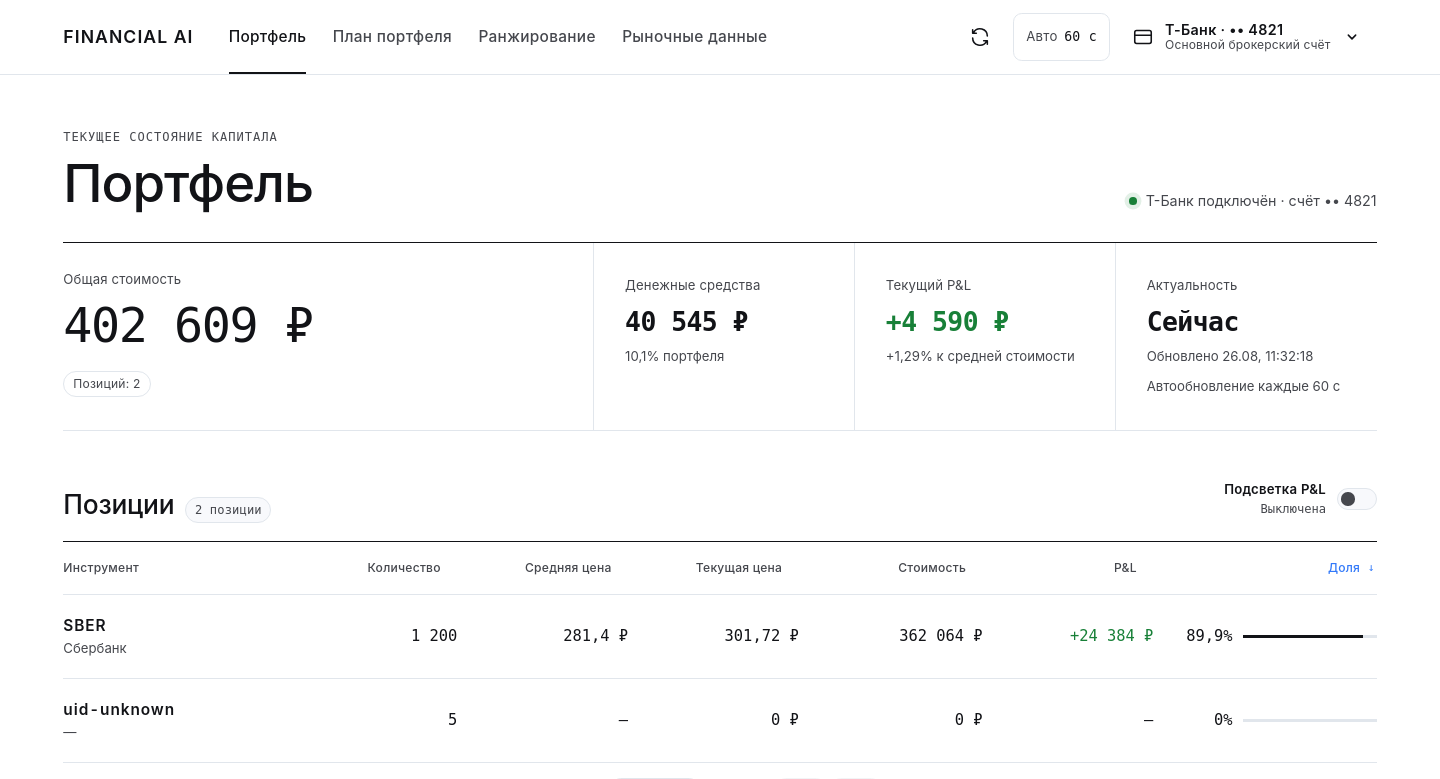
различимость причин › сохраняет последние известные данные при обрыве связи
Expected: the text "SBER" is shown, x1=63 y1=616 x2=107 y2=635
Click the button named "Обновить данные": (980, 37) x1=956 y1=13 x2=1004 y2=61
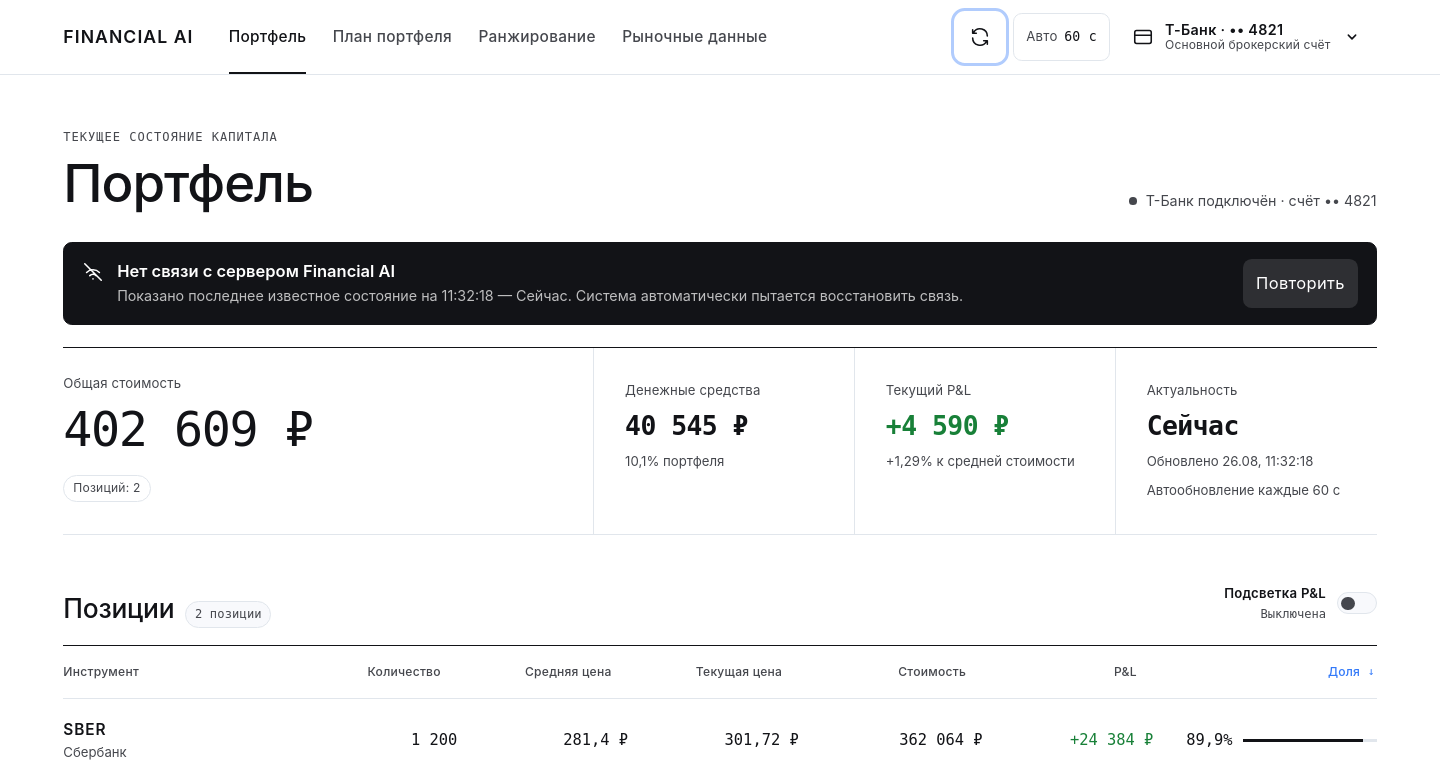
Expected: the text "SBER" is shown, x1=63 y1=720 x2=107 y2=739
Result: the text "Нет связи с сервером Financial AI" is shown at x1=117 y1=261 x2=395 y2=281
